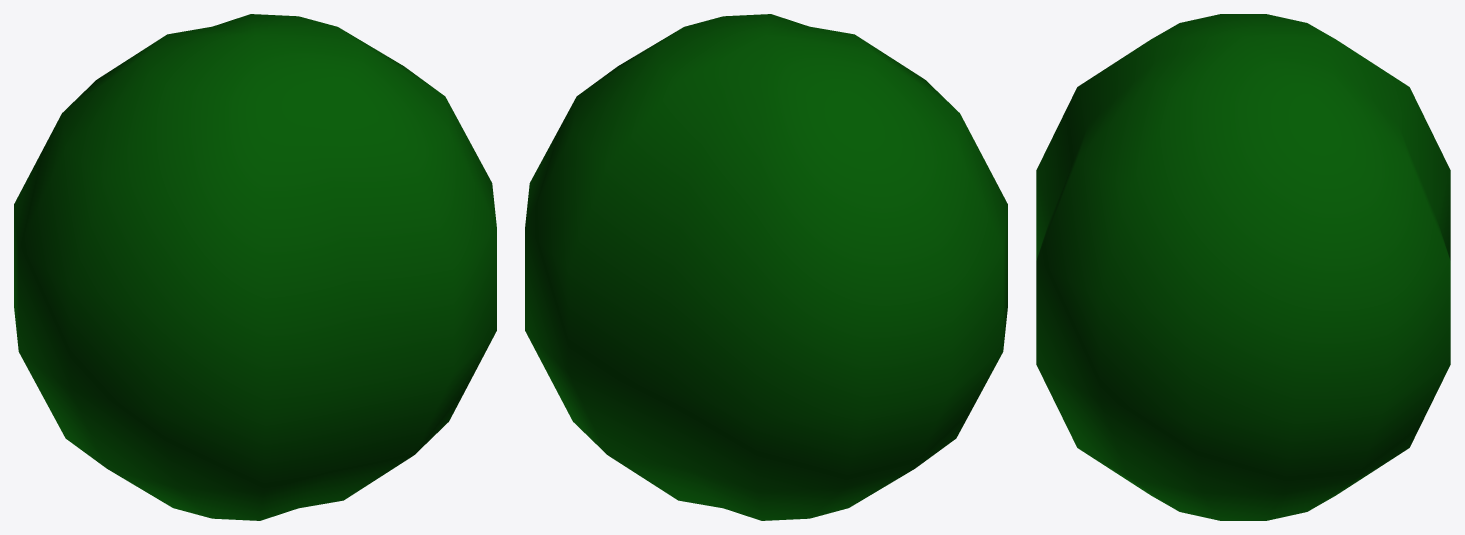
Rendered from fruit05.FBX.
The picture shows the model from 3 angles, left to right: view 1: azimuth 30°, elevation 25°; view 2: azimuth 150°, elevation 25°; view 3: azimuth 270°, elevation 25°; orthographic projection.
Visible parts, largest first — view 1: SM_fruit05_0; view 2: SM_fruit05_0; view 3: SM_fruit05_0.
Boxes of the visible parts, <box> form: SM_fruit05_0: <box>14,14,496,520</box>; SM_fruit05_0: <box>525,14,1007,520</box>; SM_fruit05_0: <box>1036,14,1450,520</box>.
Bounding box in the file's own units: 6.65 × 5.69 × 7.
